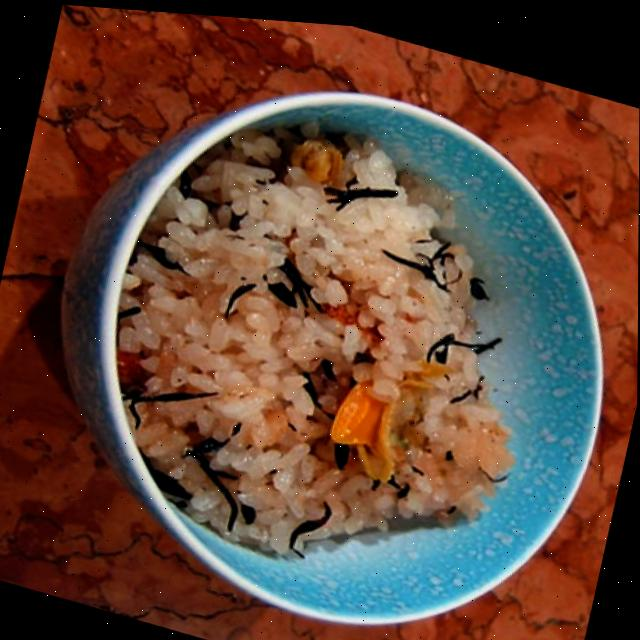米饭主食: (86, 59, 570, 595)
